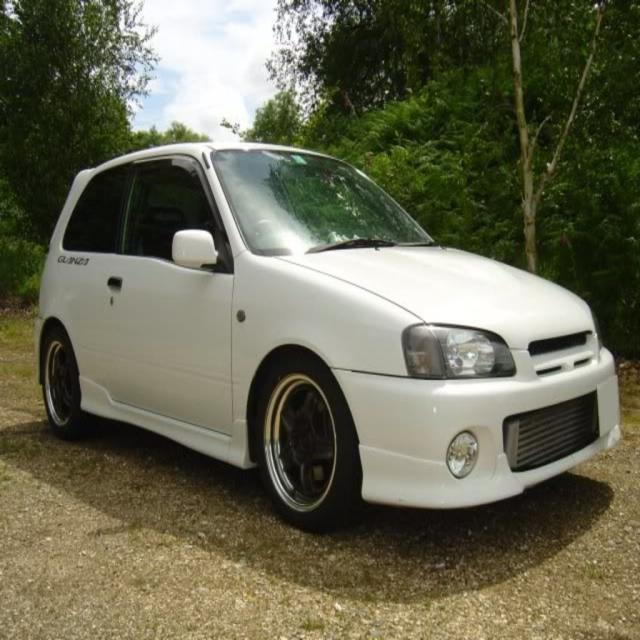car: (27, 138, 615, 522)
